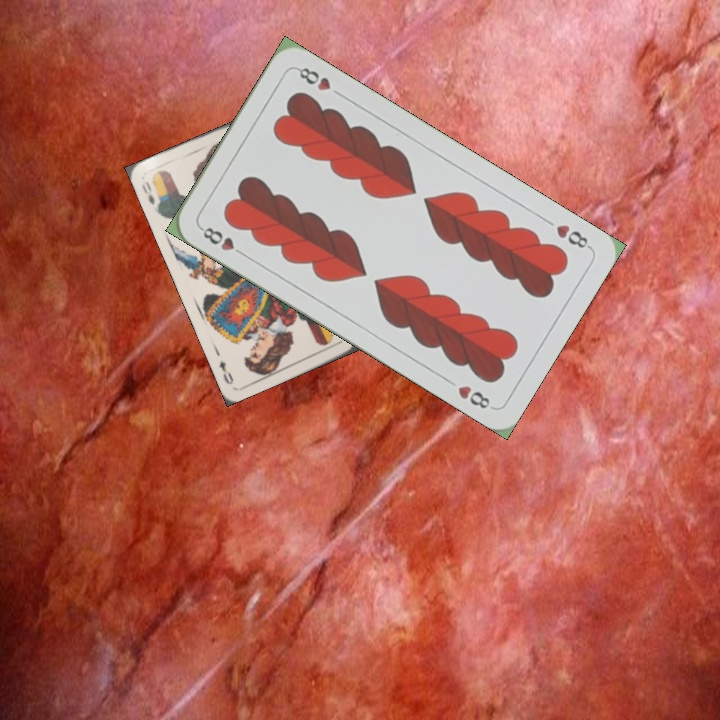EO: (137, 178, 157, 207)
H8: (196, 222, 249, 260), (552, 220, 594, 252)
